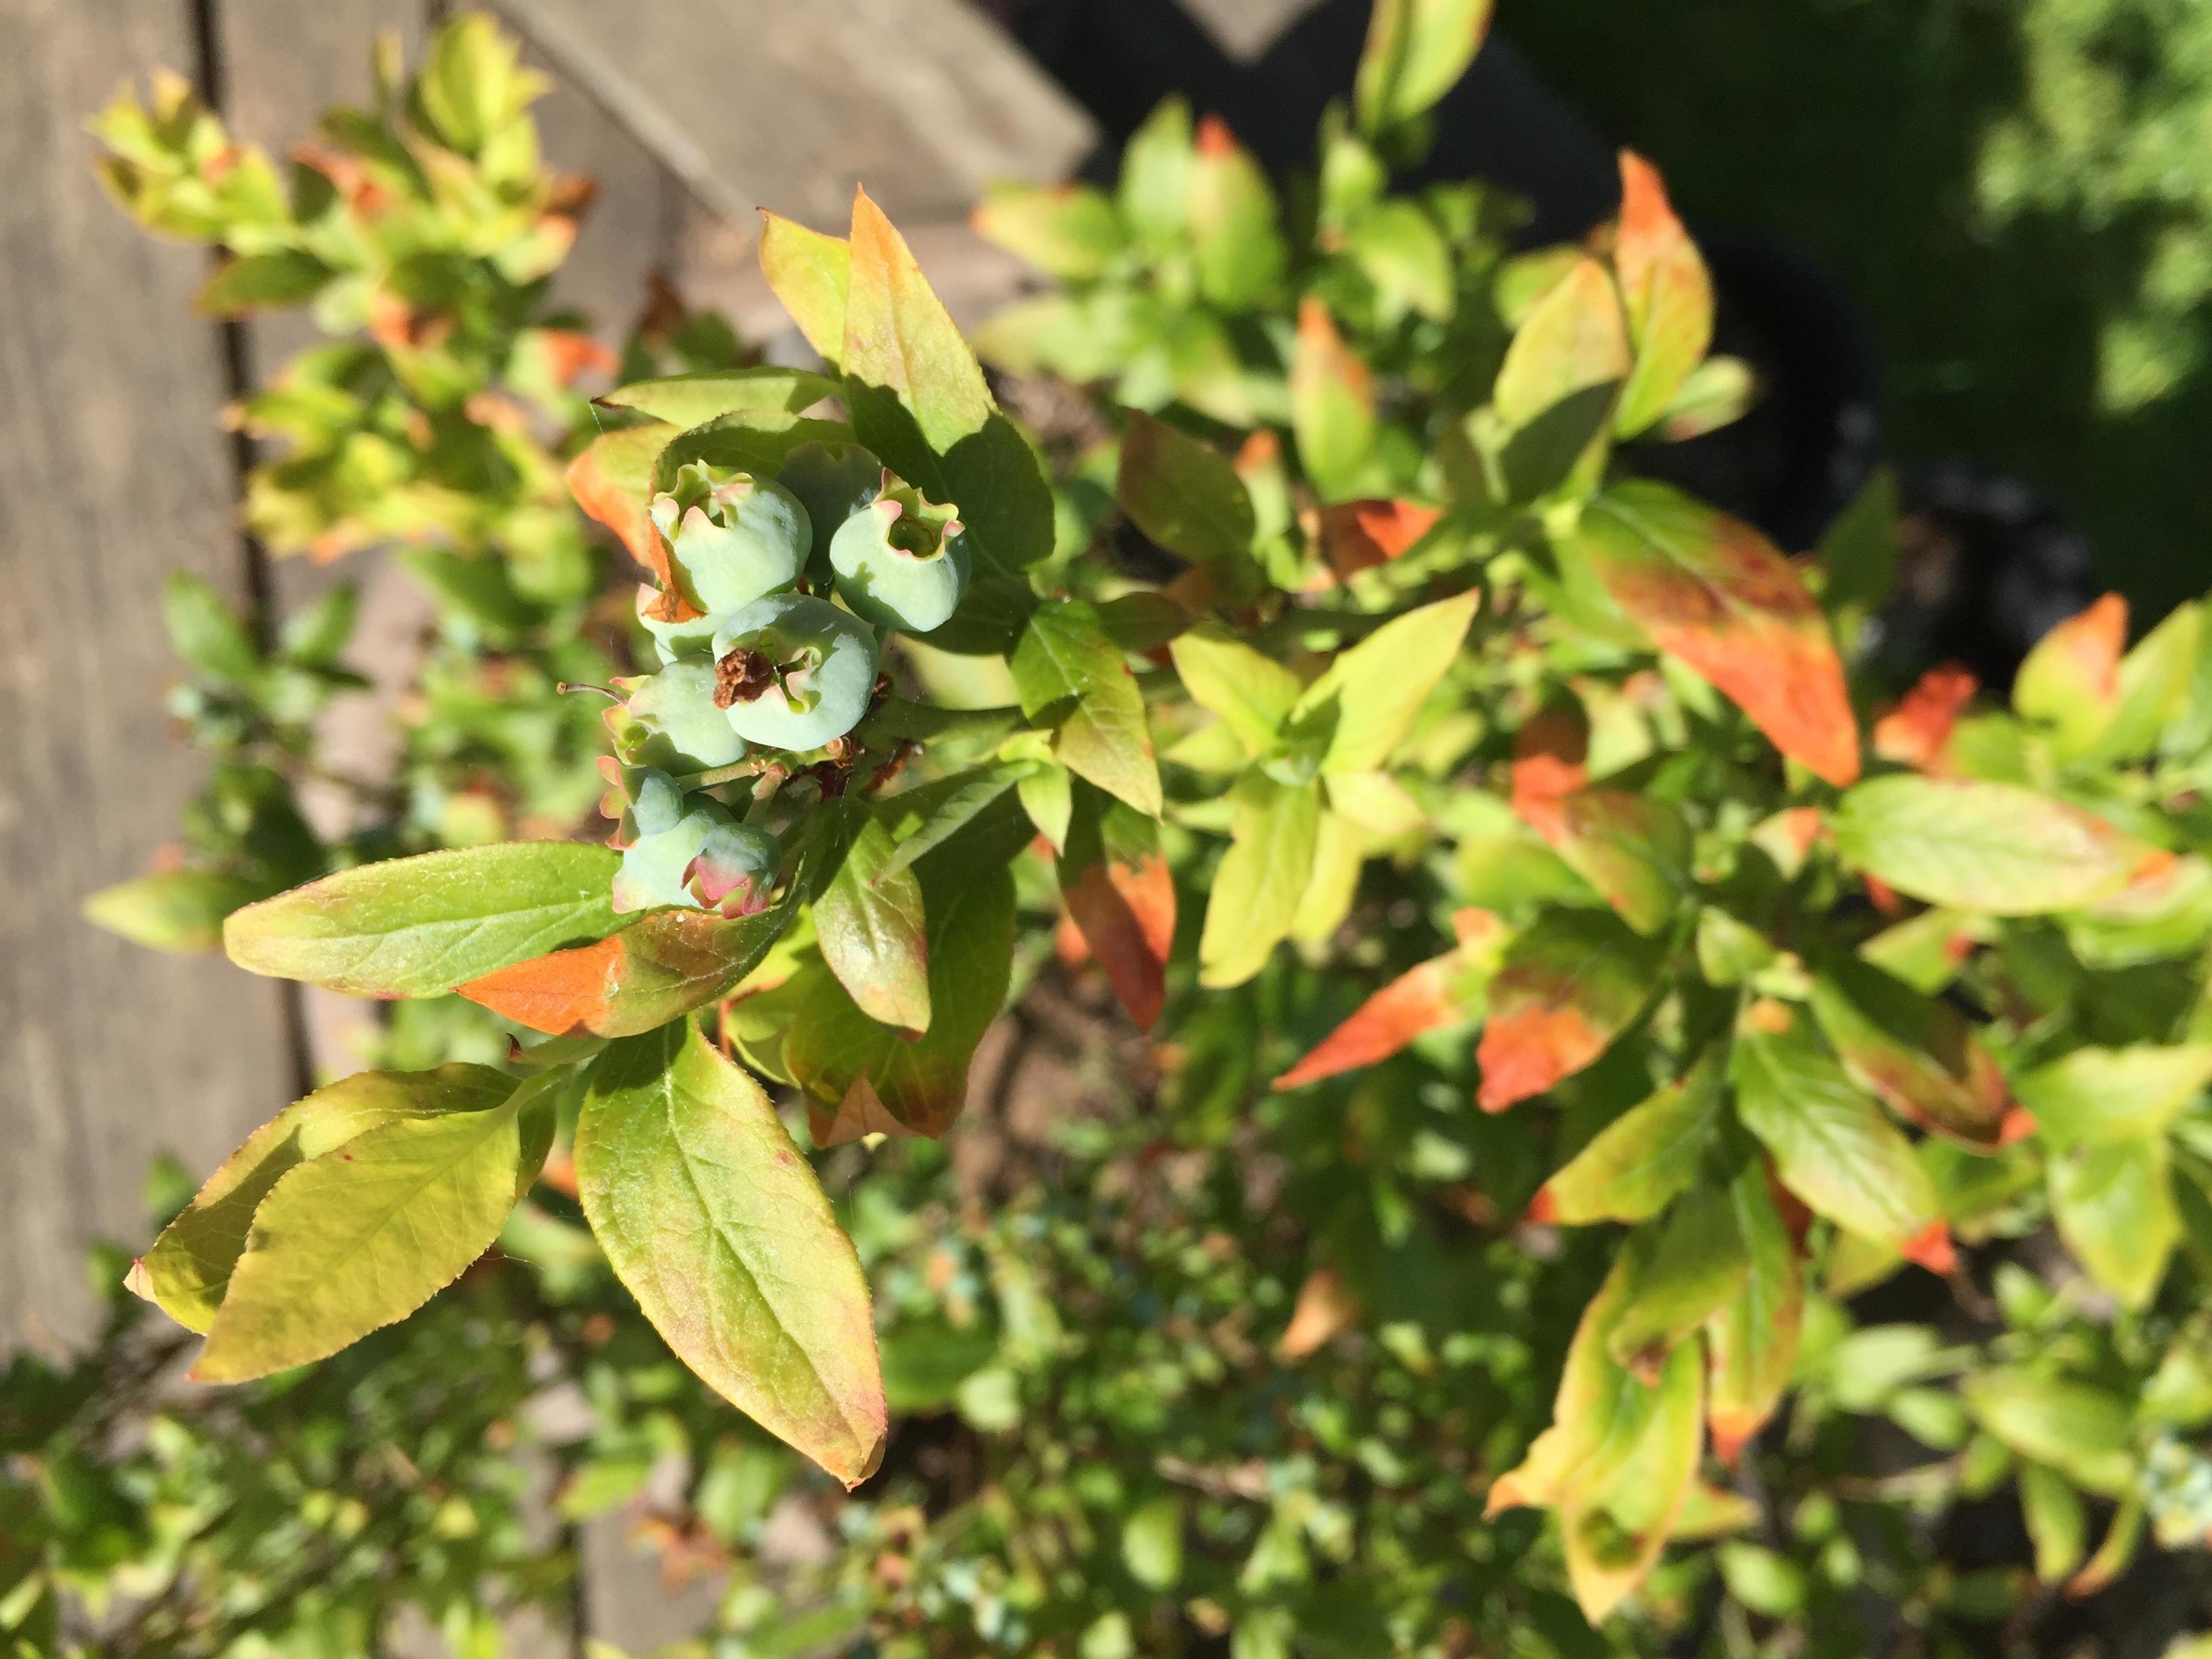Blueberry leaf: (571, 1012, 918, 1513), (120, 1089, 531, 1429), (1550, 455, 1965, 774), (772, 186, 1062, 554), (1712, 1021, 2050, 1304), (1796, 751, 2191, 934), (218, 842, 620, 1006), (989, 580, 1183, 882), (796, 784, 981, 1040), (1296, 559, 1475, 812)
